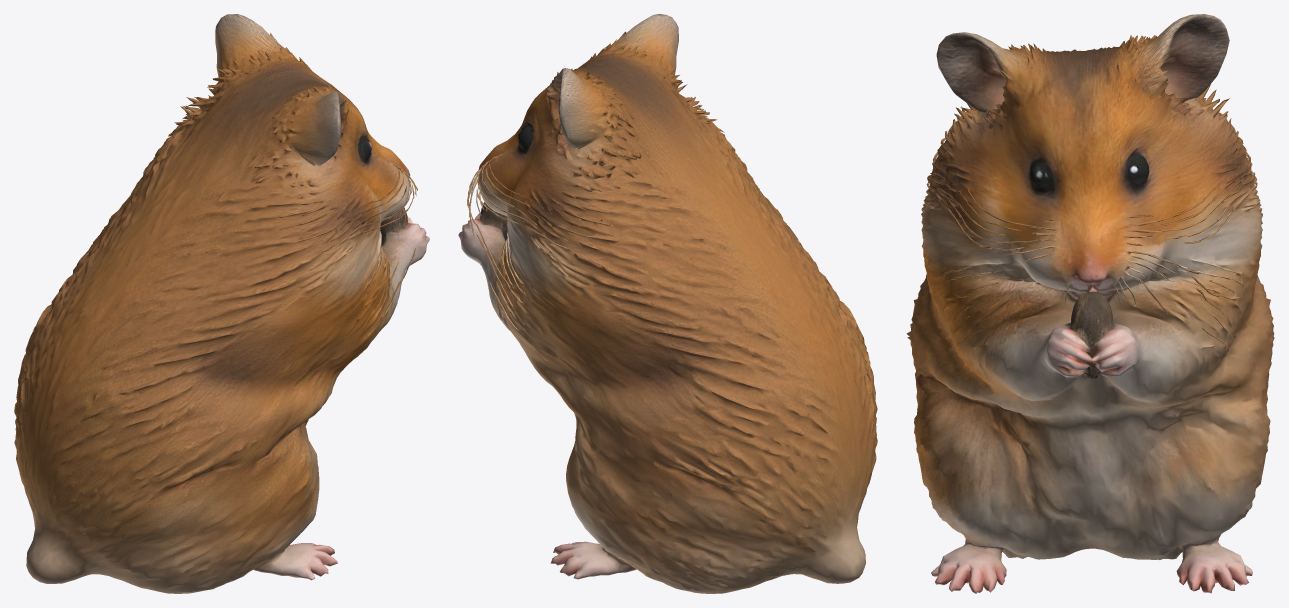
The model's file is day0.glb.
3 renders of one model, left to right at view 1: azimuth 30°, elevation 25°; view 2: azimuth 150°, elevation 25°; view 3: azimuth 270°, elevation 25°, orthographic. The views are drawn at different scales.
Parts seen in each view (by area): view 1: tripo_node_bf21546b-97c1-4074-b0dc-e6b1667f6e64; view 2: tripo_node_bf21546b-97c1-4074-b0dc-e6b1667f6e64; view 3: tripo_node_bf21546b-97c1-4074-b0dc-e6b1667f6e64.
Boxes of the visible parts, box(x1,y1,x2,y2) form: tripo_node_bf21546b-97c1-4074-b0dc-e6b1667f6e64: box(14, 14, 429, 593); tripo_node_bf21546b-97c1-4074-b0dc-e6b1667f6e64: box(458, 14, 877, 593); tripo_node_bf21546b-97c1-4074-b0dc-e6b1667f6e64: box(906, 14, 1274, 593).
Bounding box in the file's own units: 0.8472 × 1 × 0.5697.
Materials: 1 (1 with a texture image).
